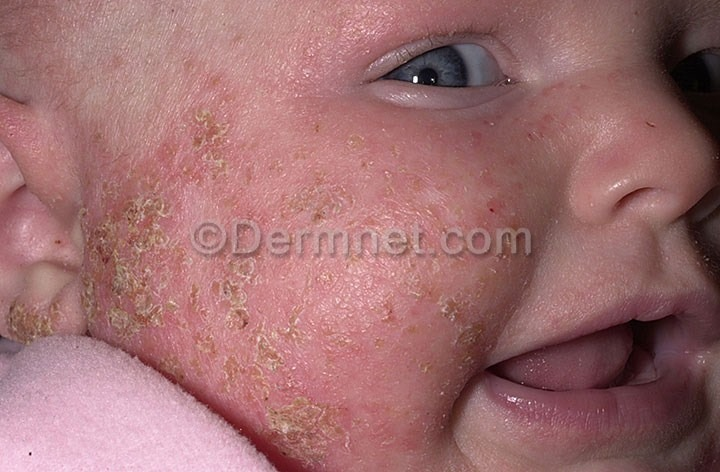Eczema: (85, 102, 533, 469), (1, 291, 68, 348)
